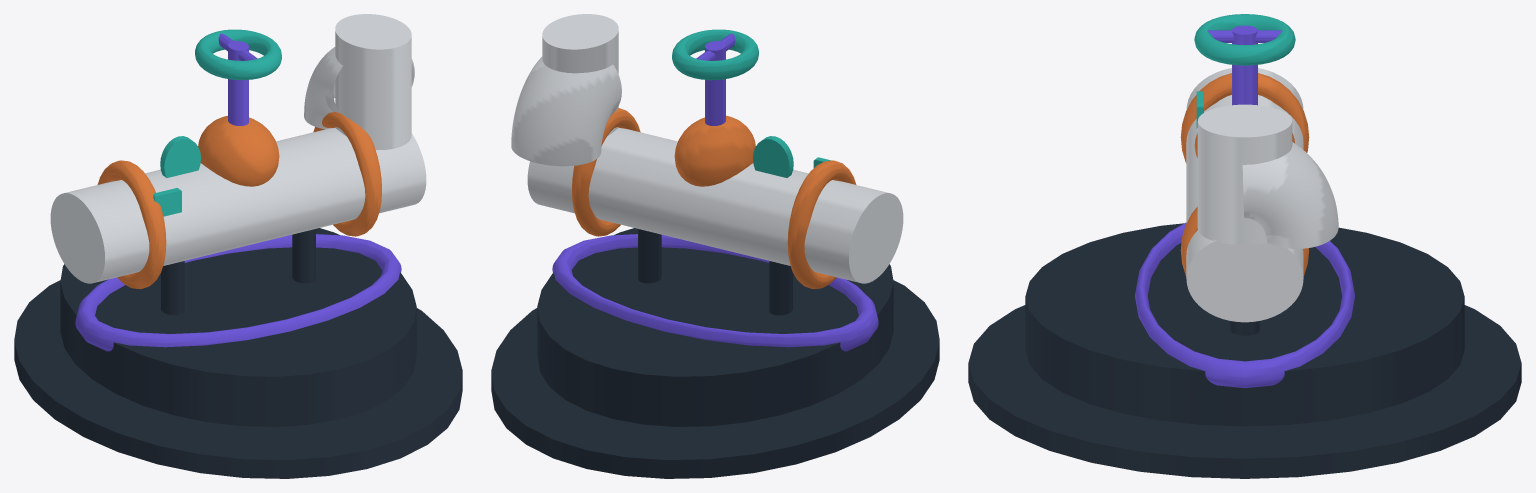
File: 0211_生活中的物理图鉴_唱片机.glb
3 views of the same model, side by side, from view 1: azimuth 30°, elevation 25°; view 2: azimuth 150°, elevation 25°; view 3: azimuth 270°, elevation 25° (orthographic). The views are drawn at different scales.
Visible parts, largest first — view 1: card_0211; view 2: card_0211; view 3: card_0211.
Part boxes in pixels (<box>): card_0211: <box>14,14,462,478</box>; card_0211: <box>491,14,939,478</box>; card_0211: <box>968,14,1521,478</box>.
Size of the model in its own units: 1.17 by 1 by 1.42.
